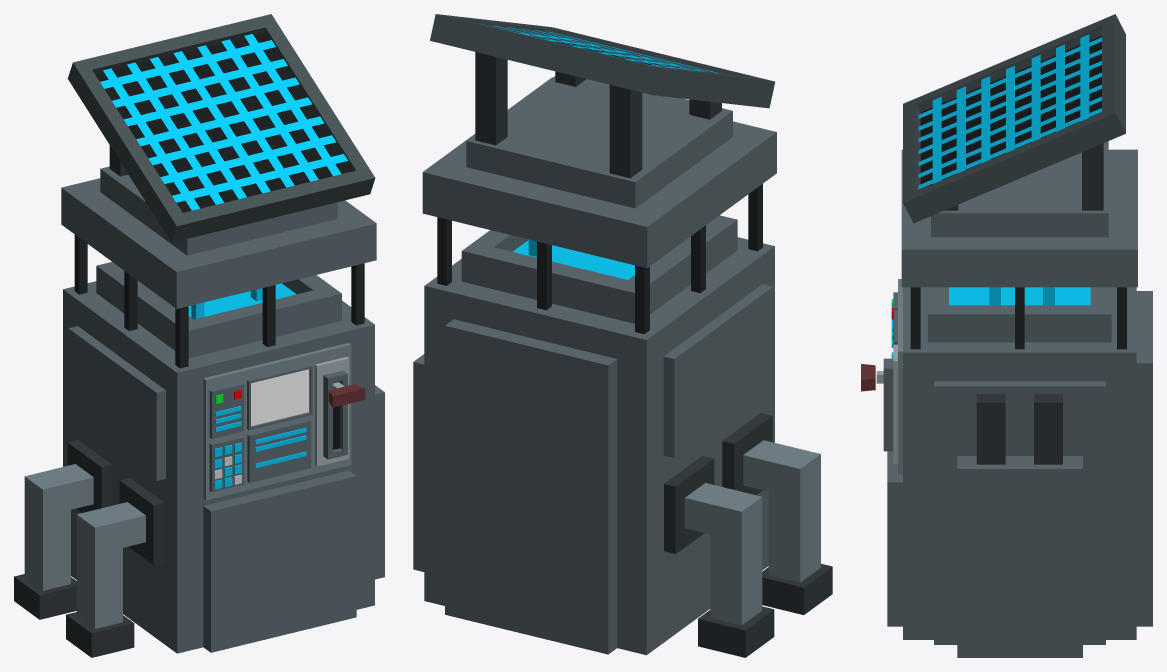
File: Generator 01.FBX
3 renders of one model, left to right at view 1: azimuth 30°, elevation 25°; view 2: azimuth 150°, elevation 25°; view 3: azimuth 270°, elevation 25°, orthographic. The views are drawn at different scales.
Parts seen in each view (by area): view 1: Generator 01; view 2: Generator 01; view 3: Generator 01.
Boxes of the visible parts, <box> form: Generator 01: <box>14,14,384,657</box>; Generator 01: <box>413,14,832,657</box>; Generator 01: <box>861,14,1152,657</box>.
Size of the model in its own units: 229 by 372 by 187.
